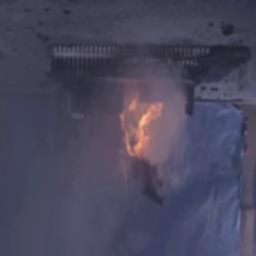fire: (120, 93, 176, 164)
